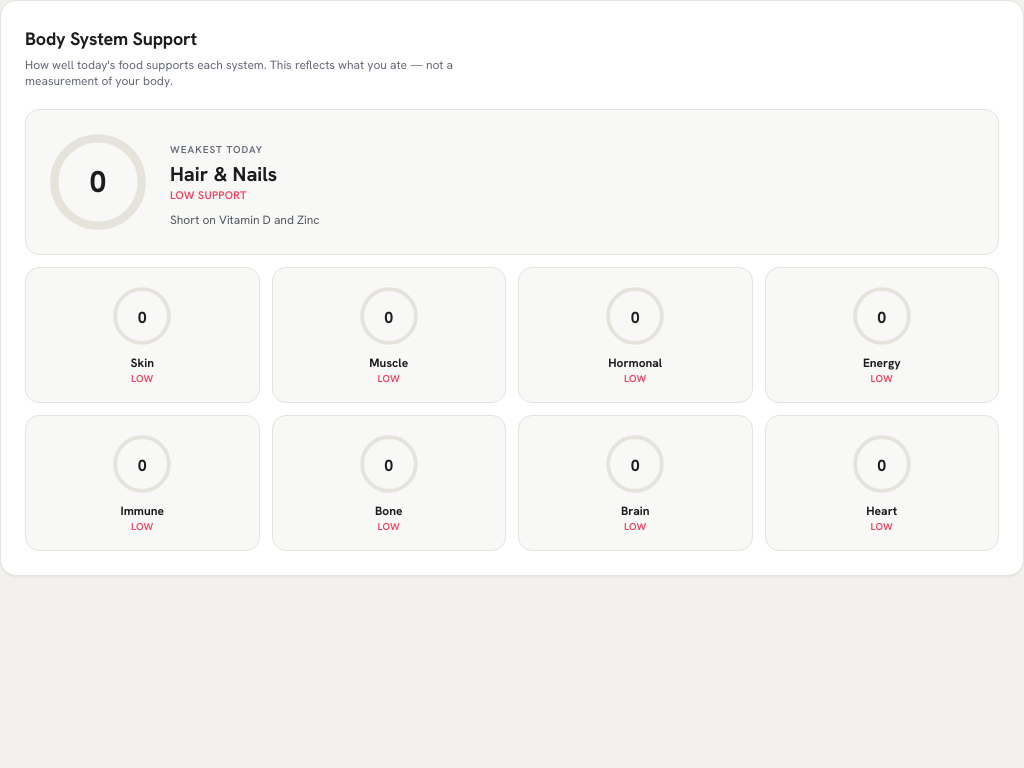
Scenario: BodySystems — drill-in › opens a detail dialog naming the system
Click the button with aria-label "Skin support". click: coordinates (142, 335)
box: [25,267,260,403]
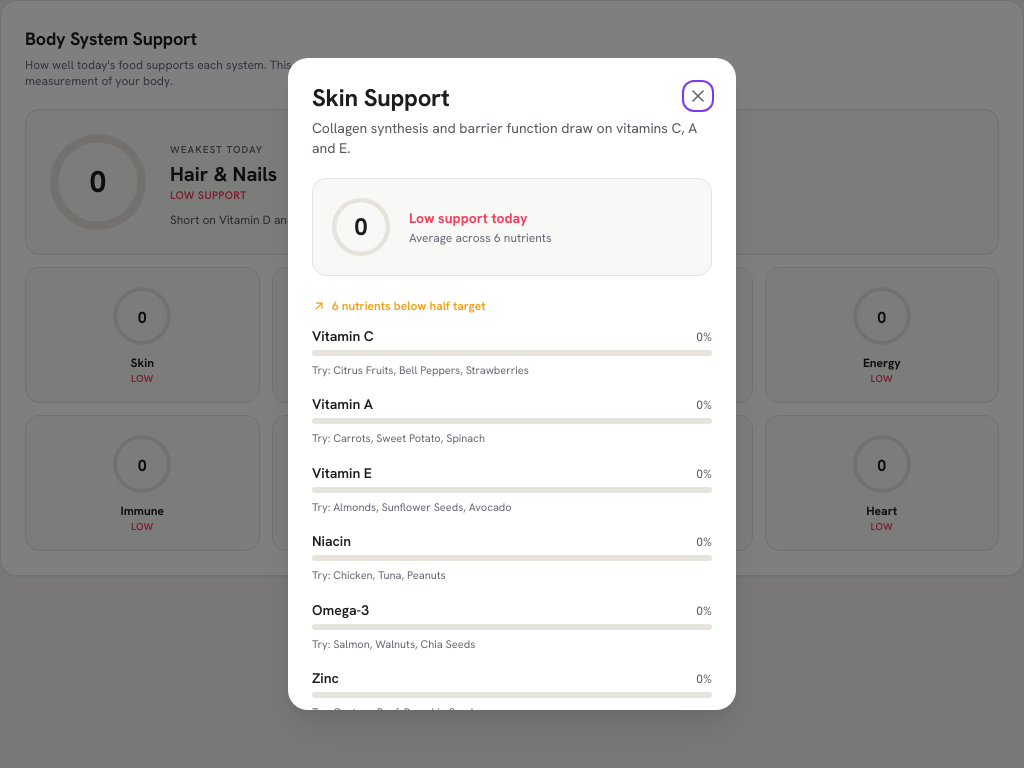
Result: the dialog "Skin Support" is shown at [288,58,736,710]
